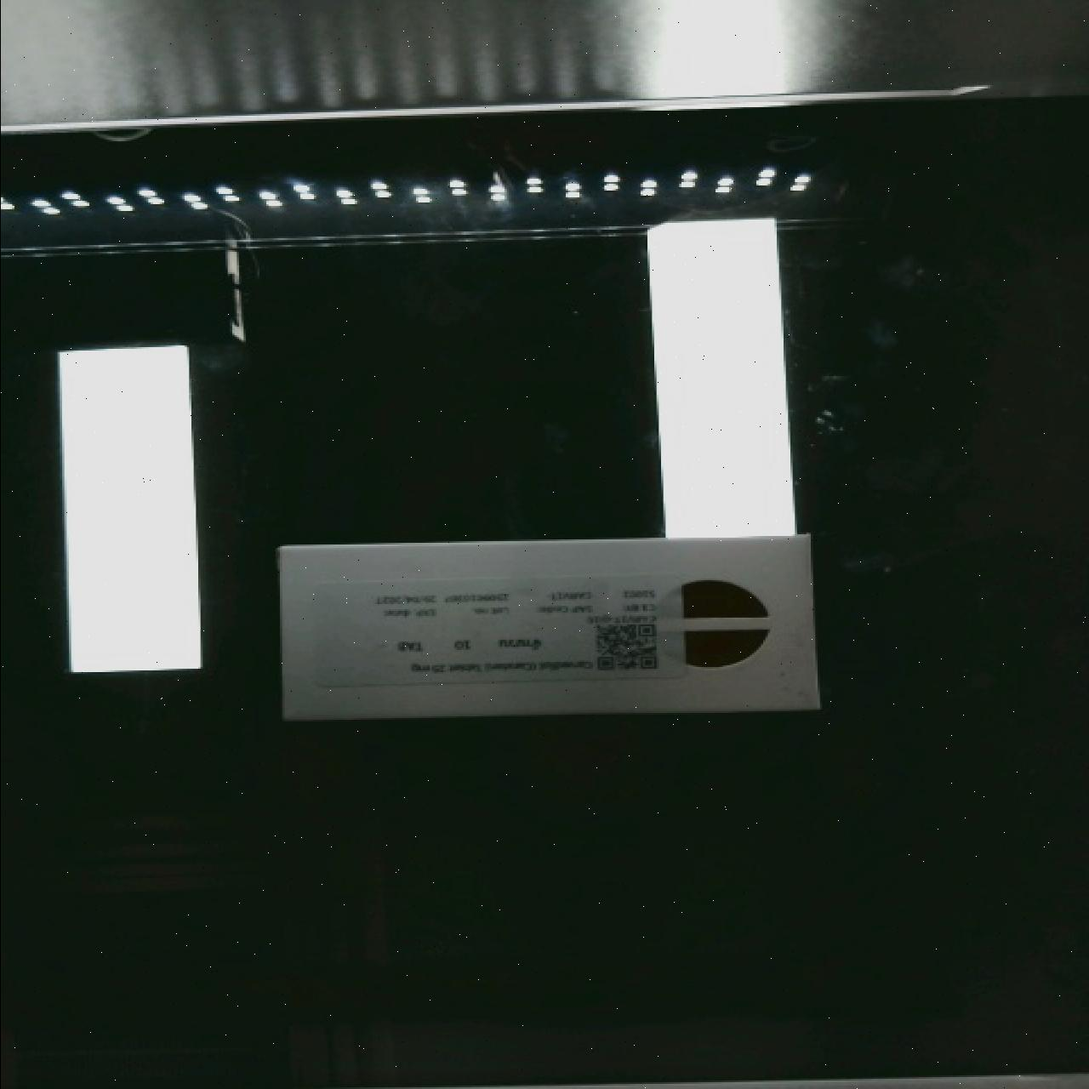qr_code: (585, 610, 671, 692)
